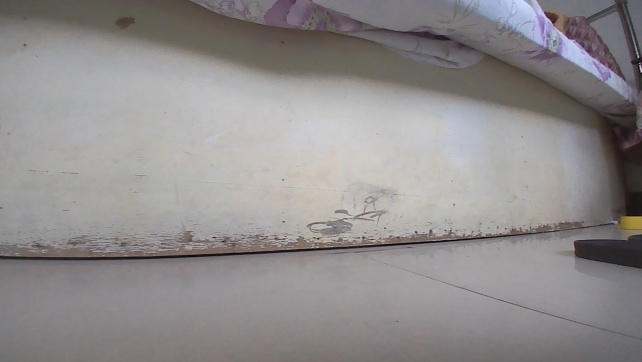bed1: (0, 0, 640, 266)
